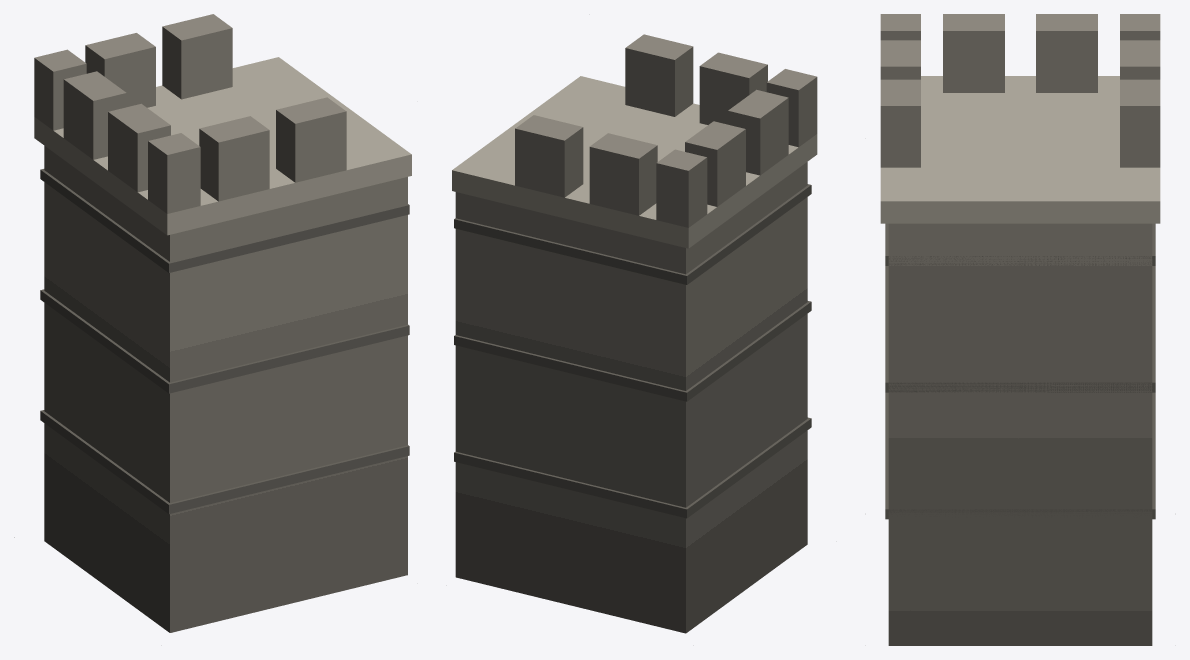
Rendered from perimeter_wall_stone_end.glb.
3 views of the same model, side by side, from view 1: azimuth 30°, elevation 25°; view 2: azimuth 150°, elevation 25°; view 3: azimuth 270°, elevation 25° (orthographic). The views are drawn at different scales.
Bounding box in the file's own units: 2.01 × 3.6 × 2.
1 material, 1 textured.
